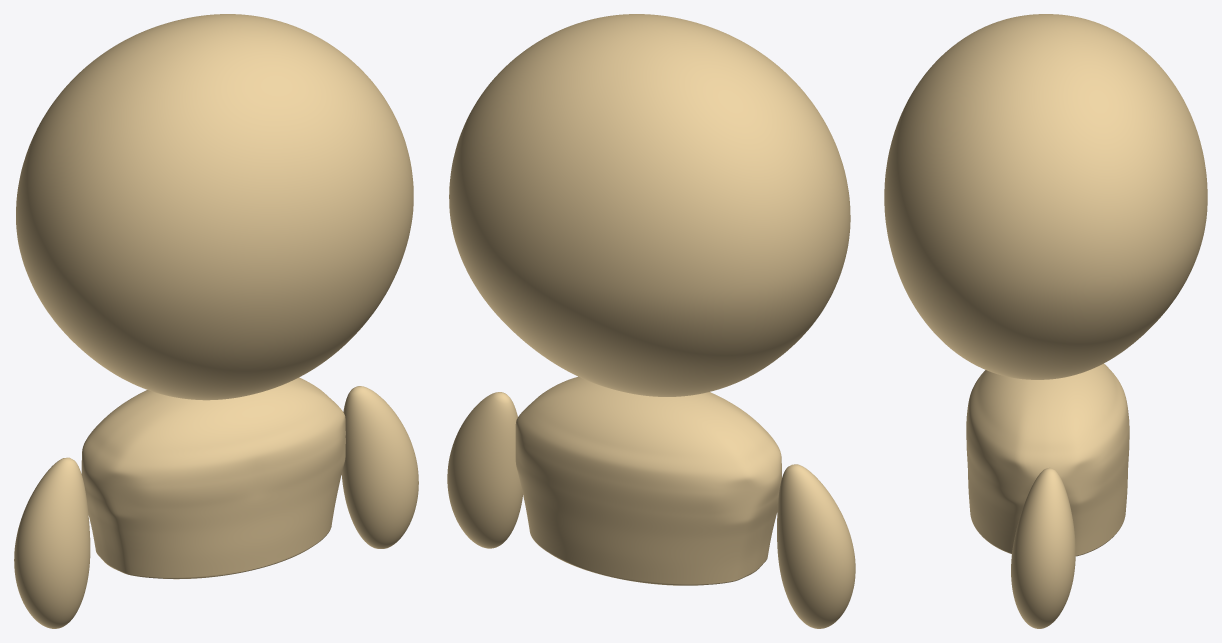
File: Masculine-pants-clothed-base.glb
3 renders of one model, left to right at view 1: azimuth 30°, elevation 25°; view 2: azimuth 150°, elevation 25°; view 3: azimuth 270°, elevation 25°, orthographic. The views are drawn at different scales.
Parts seen in each view (by area): view 1: Skin / soft oval head, Skin / rounded torso, Skin / swept arm -1, Skin / swept arm 1; view 2: Skin / soft oval head, Skin / rounded torso, Skin / swept arm -1, Skin / swept arm 1; view 3: Skin / soft oval head, Skin / rounded torso, Skin / swept arm 1.
Boxes of the visible parts, <box> form: Skin / soft oval head: <box>16,14,413,400</box>; Skin / rounded torso: <box>81,377,345,579</box>; Skin / swept arm -1: <box>14,457,90,628</box>; Skin / swept arm 1: <box>341,386,418,548</box>; Skin / soft oval head: <box>449,14,850,396</box>; Skin / rounded torso: <box>515,376,781,585</box>; Skin / swept arm -1: <box>777,464,855,628</box>; Skin / swept arm 1: <box>447,392,522,548</box>; Skin / soft oval head: <box>884,14,1207,379</box>; Skin / rounded torso: <box>966,363,1129,556</box>; Skin / swept arm 1: <box>1011,467,1075,628</box>.
Size of the model in its own units: 1.07 by 1.44 by 0.81.
